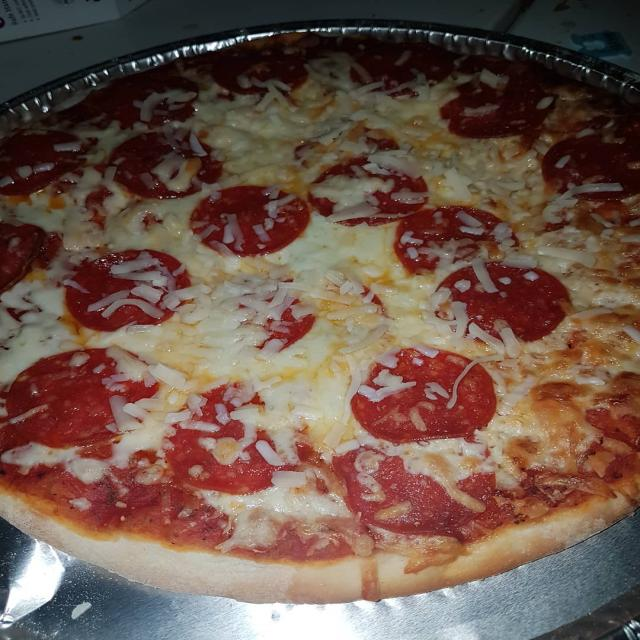pepperoni: (158, 377, 310, 494), (0, 342, 161, 452), (335, 438, 494, 538), (346, 348, 499, 446), (430, 261, 576, 344), (64, 249, 189, 333), (301, 153, 428, 230), (389, 205, 526, 276), (101, 132, 228, 200), (190, 184, 312, 254), (216, 280, 317, 354), (433, 86, 560, 140), (539, 135, 640, 201), (0, 123, 84, 198), (350, 49, 455, 102), (286, 124, 402, 171), (108, 72, 202, 128), (207, 48, 310, 94), (0, 222, 44, 294)
pizza: (0, 27, 640, 610)
